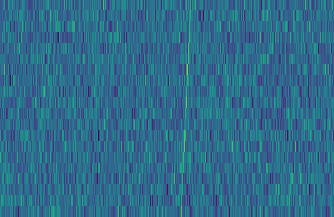signal: (176, 0, 195, 217)
